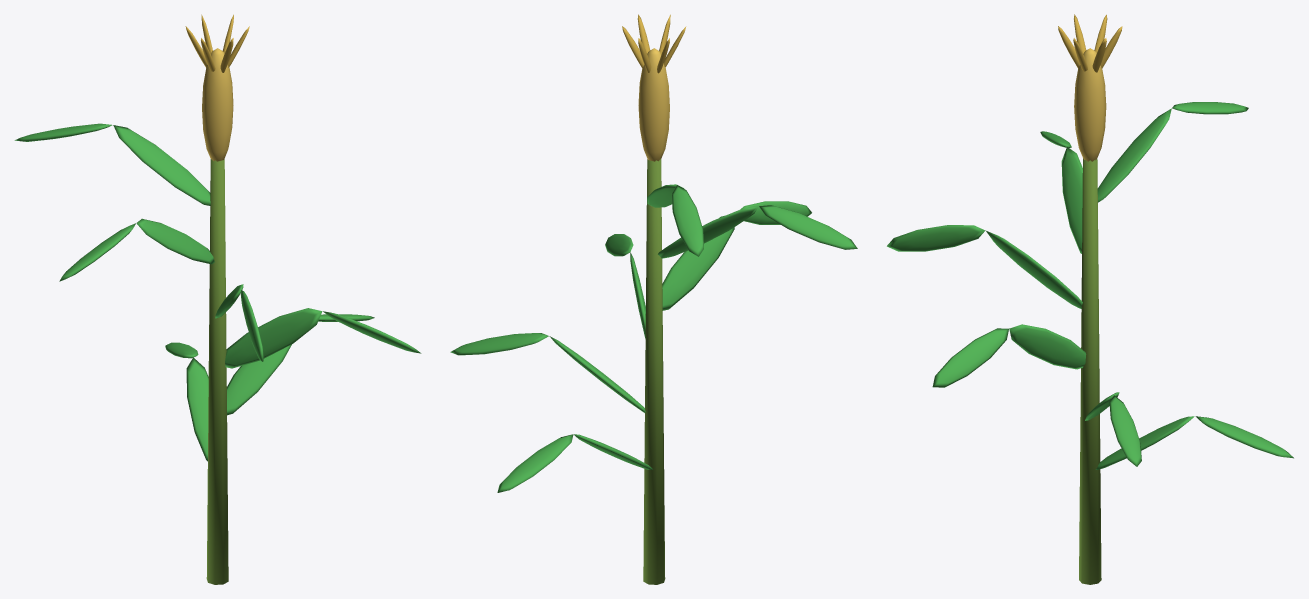
The model's file is stalk_ear.glb.
3 renders of one model, left to right at view 1: azimuth 30°, elevation 25°; view 2: azimuth 150°, elevation 25°; view 3: azimuth 270°, elevation 25°, orthographic.
Visible parts, largest first — view 1: Leaf, Stem, Fruit; view 2: Leaf, Stem, Fruit; view 3: Leaf, Stem, Fruit.
Part boxes in pixels (bbox=[...]): Leaf: bbox=[14, 123, 421, 461]; Stem: bbox=[206, 159, 228, 584]; Fruit: bbox=[185, 14, 249, 161]; Leaf: bbox=[450, 184, 857, 492]; Stem: bbox=[643, 159, 665, 584]; Fruit: bbox=[622, 14, 686, 161]; Leaf: bbox=[887, 102, 1293, 469]; Stem: bbox=[1079, 158, 1101, 584]; Fruit: bbox=[1058, 14, 1122, 161].
Bounding box in the file's own units: 1.29 × 1.9 × 1.26.
